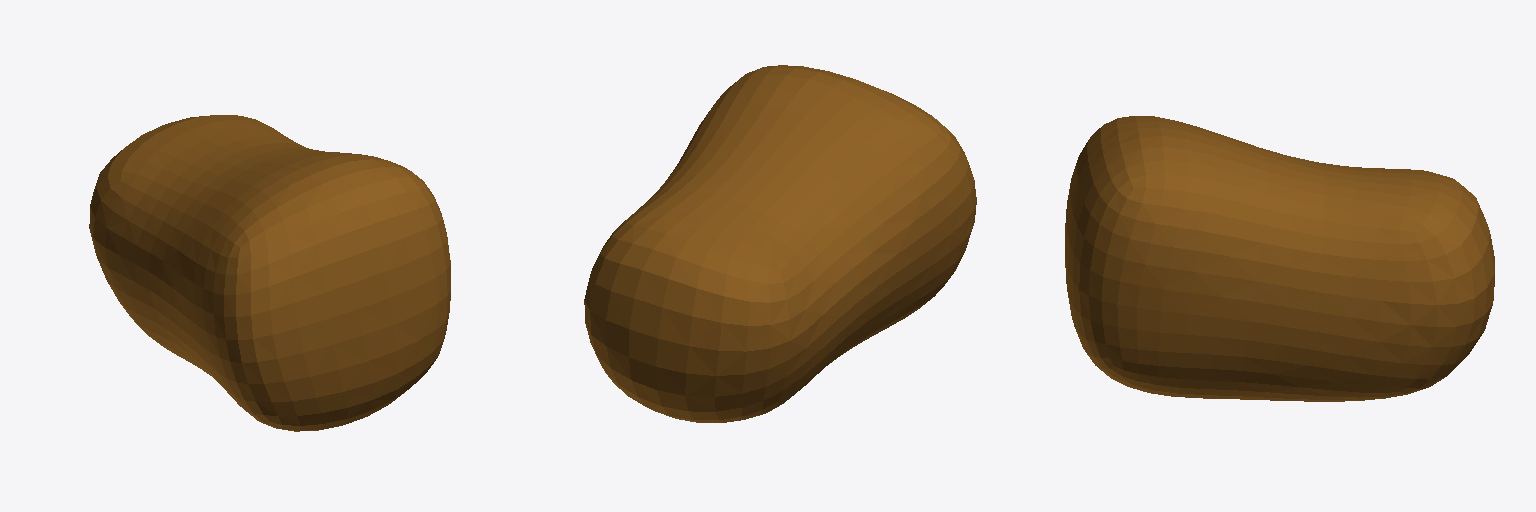
File: fing3_1.obj
The picture shows the model from 3 angles: view 1: azimuth 30°, elevation 25°; view 2: azimuth 150°, elevation 25°; view 3: azimuth 270°, elevation 25°; orthographic projection.
Visible parts, largest first — view 1: f3o1; view 2: f3o1; view 3: f3o1.
Part boxes in pixels (x1,y1,x2,y2): f3o1: (89,115,450,431); f3o1: (584,65,976,422); f3o1: (1065,116,1494,401).
Bounding box in the file's own units: 0.8811 × 0.9113 × 1.38.